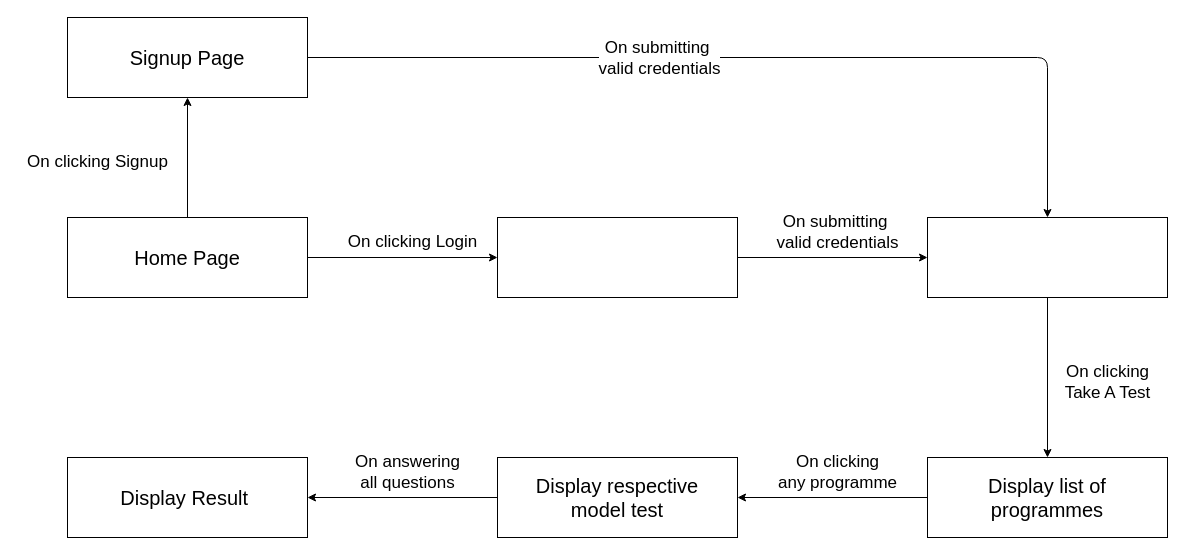
The diagram is 1185 pixels wide and 555 high, and some of its shapes have lost their labels. Each missing label, with the box of its shape:
Dashboard: (926, 216, 1168, 298)
Login Page (Username / Email, Password): (496, 216, 738, 298)
